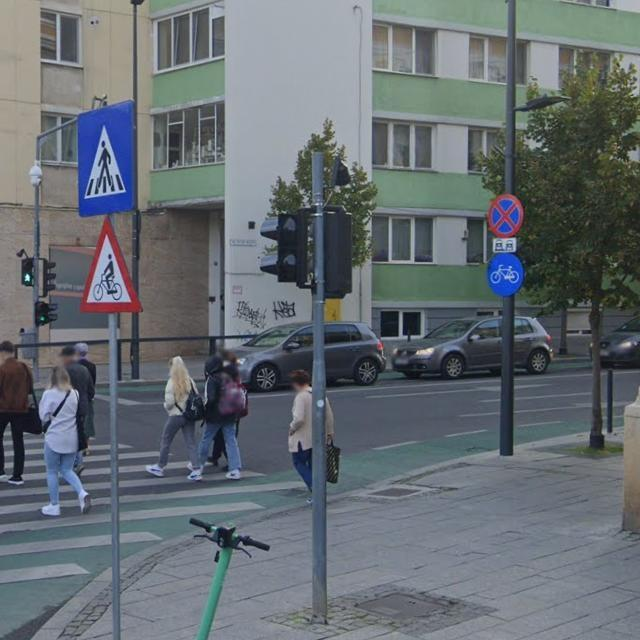forb_waiting: (487, 194, 524, 239)
info_crosswalk: (76, 98, 135, 216)
